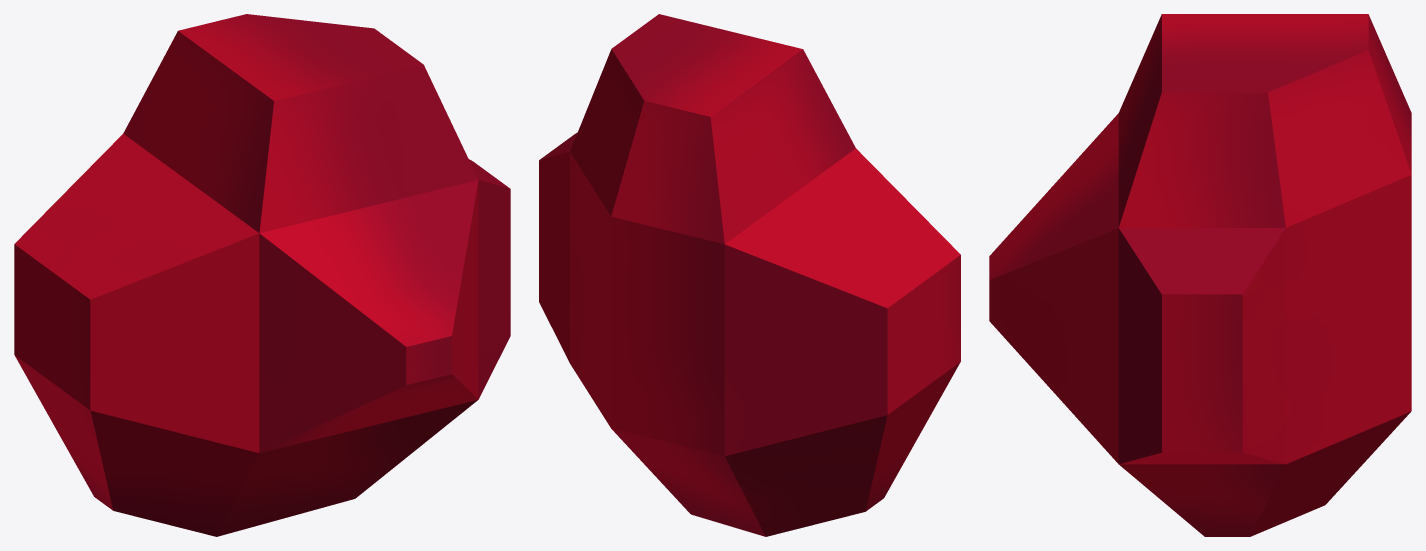
Rendered from gib4.FBX.
The picture shows the model from 3 angles, left to right: view 1: azimuth 30°, elevation 25°; view 2: azimuth 150°, elevation 25°; view 3: azimuth 270°, elevation 25°; orthographic projection. The views are drawn at different scales.
Parts seen in each view (by area): view 1: Box004; view 2: Box004; view 3: Box004.
Boxes of the visible parts, bbox=[...] form: Box004: bbox=[14, 14, 510, 536]; Box004: bbox=[539, 14, 960, 536]; Box004: bbox=[989, 14, 1411, 536].
Size of the model in its own units: 7.5 by 7.71 by 6.22.
1 material, 1 textured.
